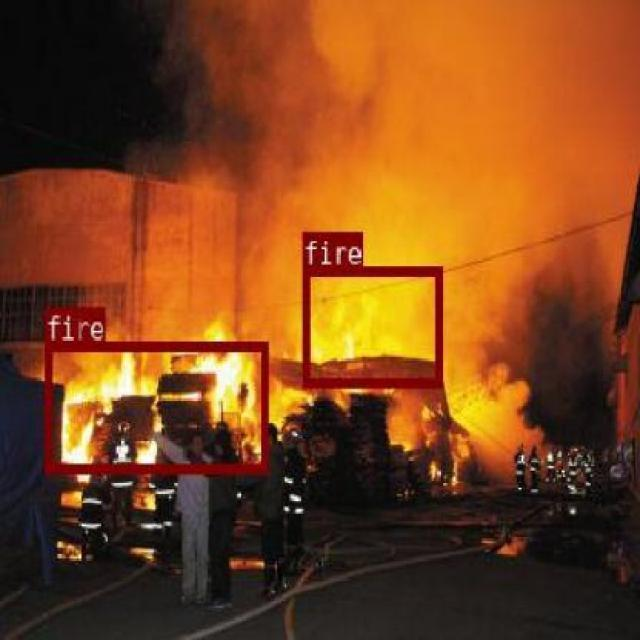Fire: (44, 341, 267, 472), (302, 266, 442, 386)
Smoke: (165, 15, 640, 268)
